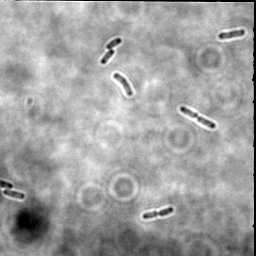Dividing: (179, 105, 217, 131), (112, 72, 134, 97), (141, 206, 176, 220)
Rod: (216, 28, 246, 40), (3, 188, 26, 200), (100, 48, 115, 65), (105, 37, 122, 50)
